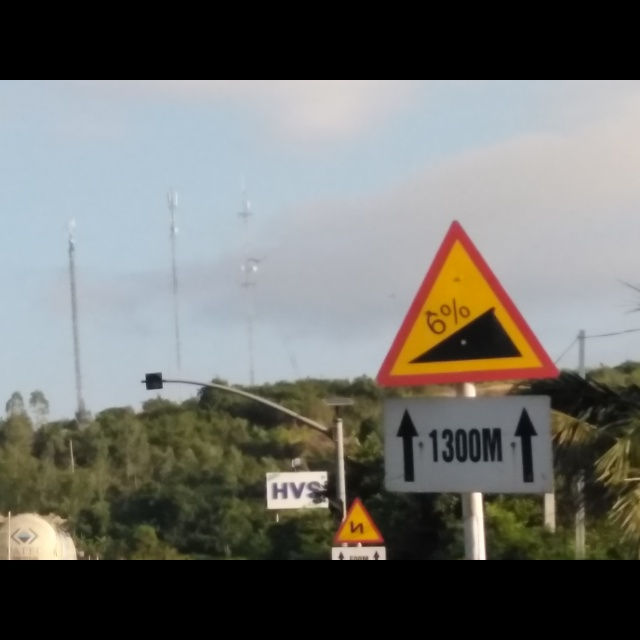Dốc lên nguy hiểm: (374, 221, 561, 388)
Ngoặt nguy hiểm liên tiếp bên phải: (334, 492, 388, 543)
